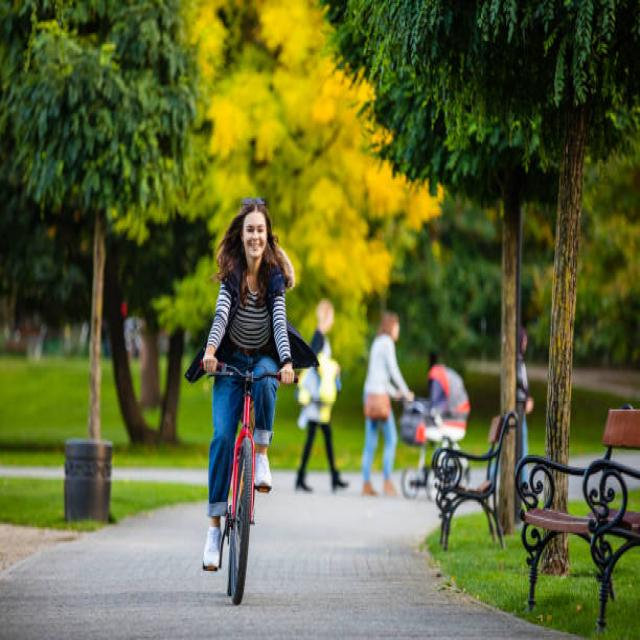bicycle: (186, 199, 316, 604)
